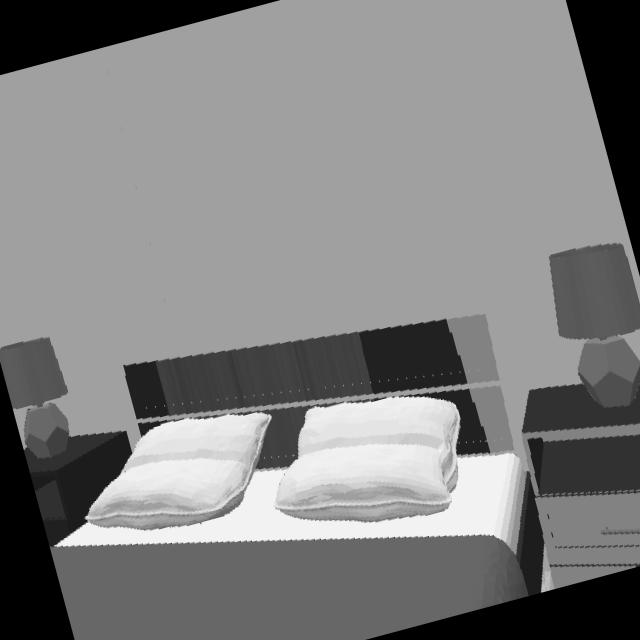bed: (50, 313, 529, 640)
lamp: (548, 243, 640, 410), (0, 337, 70, 459)
nighttable: (520, 384, 640, 592), (23, 430, 130, 546)
pillow: (57, 410, 274, 547), (272, 395, 452, 523)
